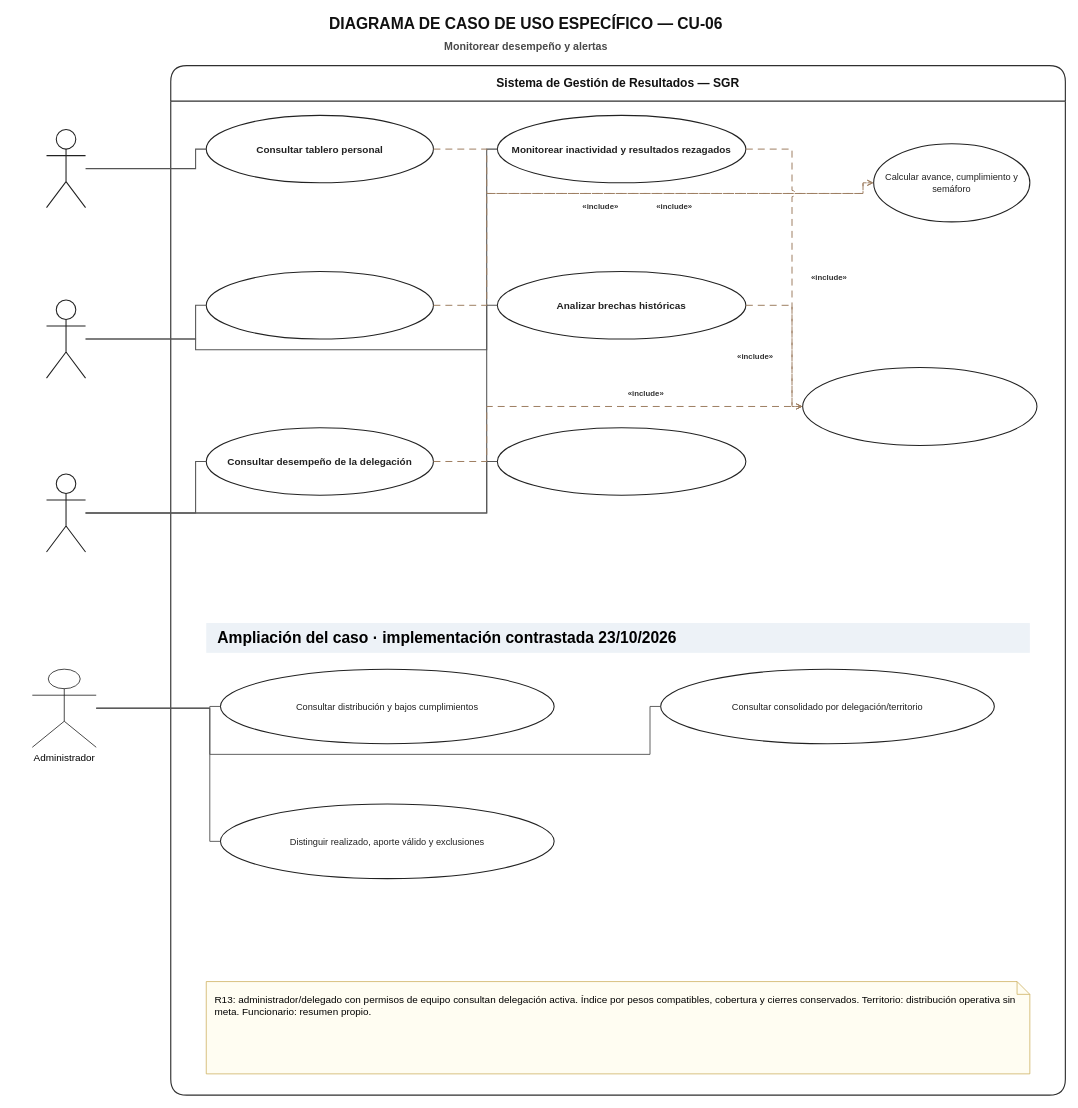
This 1078x1108 diagram has some shape labels left out. Here are the shapes that lost their labels. From the top down, the centre of each, then its label:
(x=66, y=168): Funcionario
(x=319, y=305): Comparar avance real y esperado
(x=66, y=338): Coordinador del sistema
(x=919, y=406): Consolidar indicadores por ámbito
(x=621, y=461): Consultar y atender alertas
(x=66, y=512): Delegado, jefatura o supervisor
